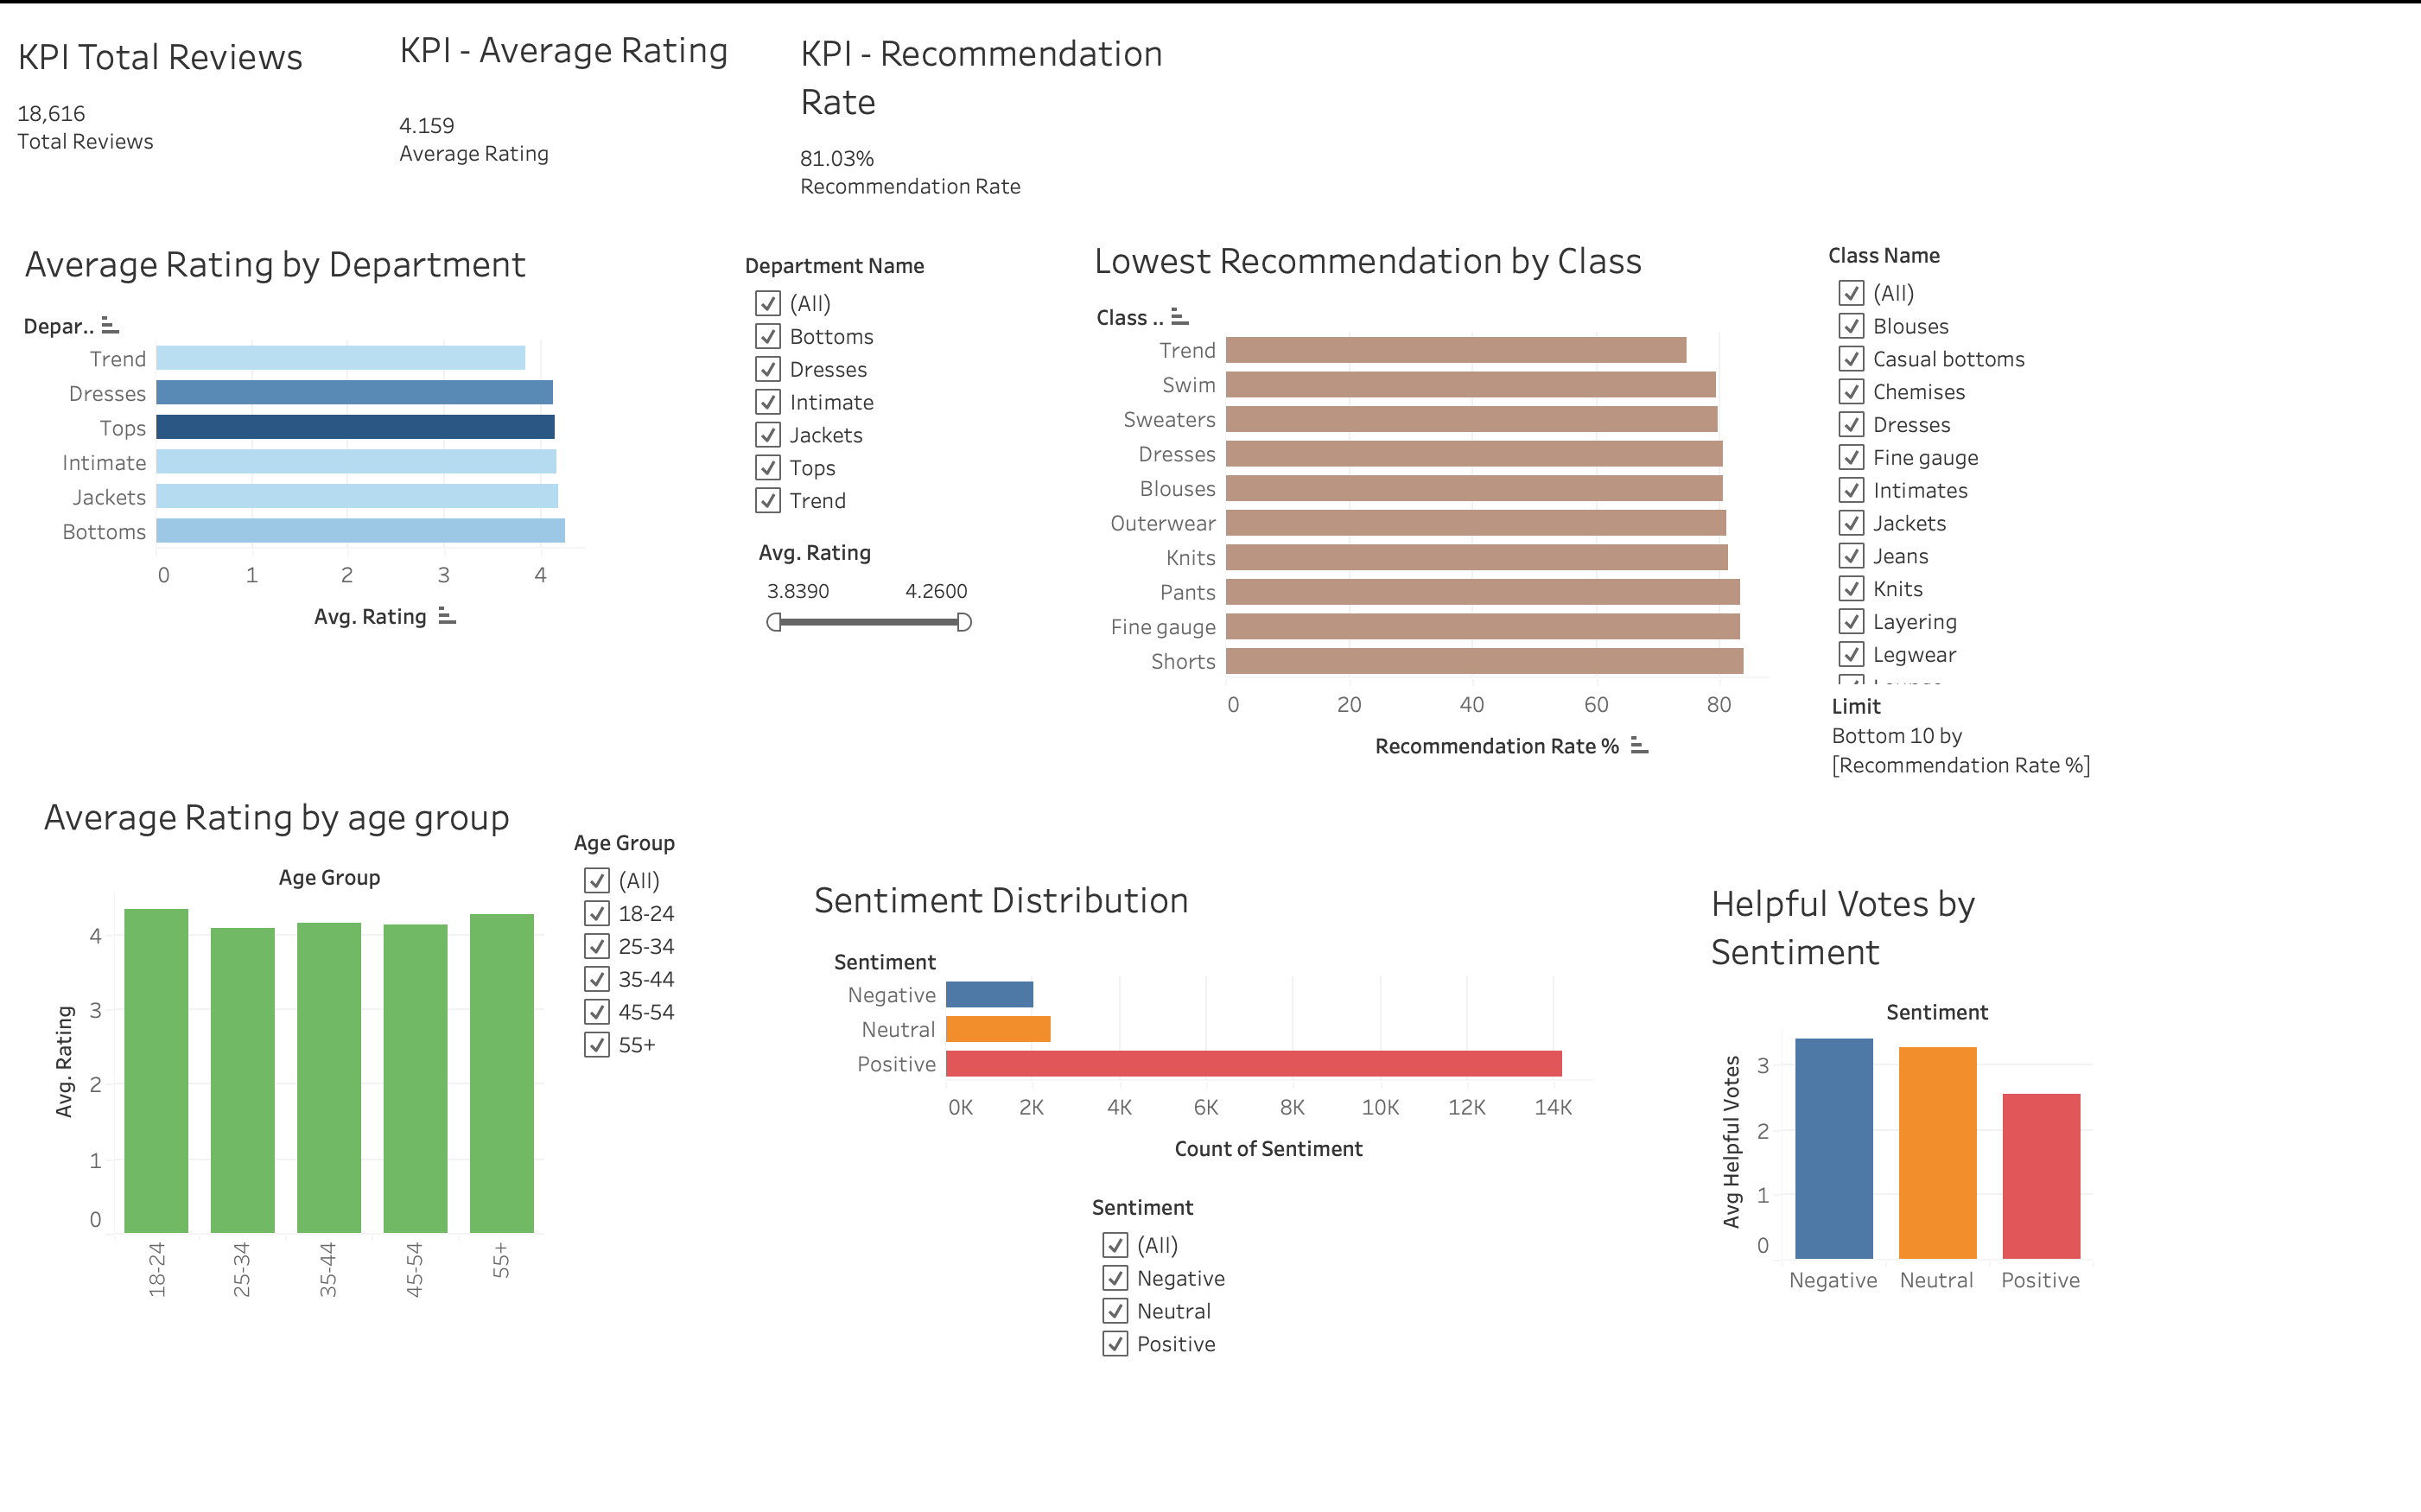

Layout of this report page (visuals, bound fields, positions):
{"tool":"tableau","page":{"name":"Dashboard 1","canvas":[2000,2000],"ordinal":0},"visuals":[{"type":"worksheet","title":"KPI2","mark":"Automatic","box":[227,8,206,99]},{"type":"worksheet","title":"KPI3","mark":"Automatic","box":[459,10,257,105]},{"type":"worksheet","title":"KPI1","mark":"Automatic","box":[6,12,210,116]},{"type":"worksheet","title":"Lowest Recommendation by Class","mark":"Automatic","rows":["Class Name"],"cols":["Calculation_0248819766837251"],"box":[629,130,395,322]},{"type":"worksheet","title":"Average Rating by Department ","mark":"Automatic","rows":["Department Name"],"cols":["Rating"],"box":[10,132,398,243]},{"type":"filter","title":"Lowest Recommendation by Class","param":"[federated.0g9hy8h08y6ol6151dnlm0r3odki].[none:Class Name:nk]","box":[1058,137,160,316]},{"type":"filter","title":"Average Rating by Department ","param":"[federated.0g9hy8h08y6ol6151dnlm0r3odki].[none:Department Name:nk]","box":[431,143,160,157]},{"type":"filter","title":"Average Rating by Department ","param":"[federated.0g9hy8h08y6ol6151dnlm0r3odki].[avg:Rating:qk]","box":[439,309,128,61]},{"type":"worksheet","title":"Average Rating by age group","mark":"Automatic","rows":["Rating"],"cols":["Age Group"],"box":[21,452,294,300]},{"type":"filter","title":"Average Rating by age group","param":"[federated.0g9hy8h08y6ol6151dnlm0r3odki].[none:Age Group:nk]","box":[332,477,131,138]},{"type":"worksheet","title":"Sentiment Distribution","mark":"Automatic","rows":["Sentiment"],"cols":["Sentiment"],"box":[467,500,455,190]},{"type":"worksheet","title":"Helpful votes","mark":"Automatic","rows":["Calculation_0248819767869447"],"cols":["Sentiment"],"box":[986,502,371,246]},{"type":"filter","title":"Sentiment Distribution","param":"[federated.0g9hy8h08y6ol6151dnlm0r3odki].[none:Sentiment:nk]","box":[632,688,160,100]}]}

Visuals, with their boxes on the page's 2000x2000 design canvas (x1, y1, x2, y2). These are canvas units, not pixel positions in the 2421x1512 screenshot, which may show the page scaled, cropped or inside an application window:
"KPI2" worksheet: 227, 8, 433, 107
"KPI3" worksheet: 459, 10, 716, 115
"KPI1" worksheet: 6, 12, 216, 128
"Lowest Recommendation by Class" worksheet: 629, 130, 1024, 452
"Average Rating by Department " worksheet: 10, 132, 408, 375
"Lowest Recommendation by Class" filter: 1058, 137, 1218, 453
"Average Rating by Department " filter: 431, 143, 591, 300
"Average Rating by Department " filter: 439, 309, 567, 370
"Average Rating by age group" worksheet: 21, 452, 315, 752
"Average Rating by age group" filter: 332, 477, 463, 615
"Sentiment Distribution" worksheet: 467, 500, 922, 690
"Helpful votes" worksheet: 986, 502, 1357, 748
"Sentiment Distribution" filter: 632, 688, 792, 788
